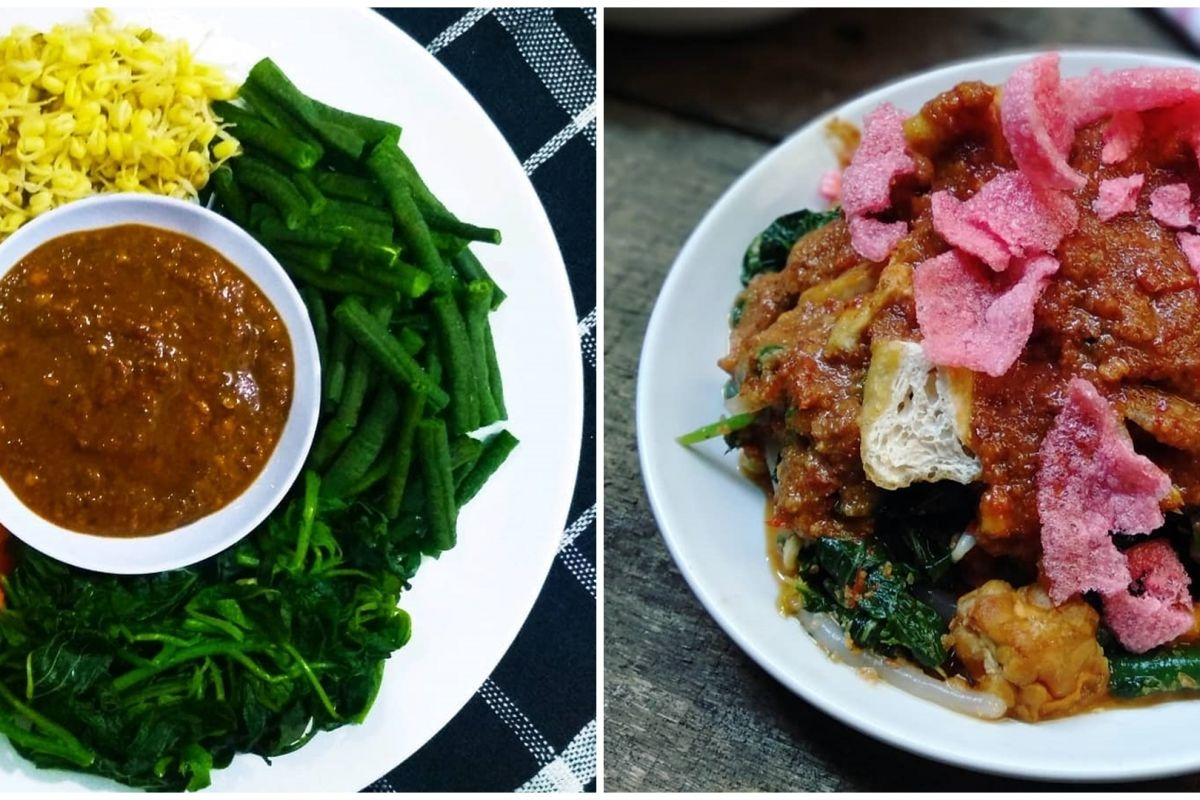pecel: (0, 44, 521, 766), (731, 64, 1194, 693)
